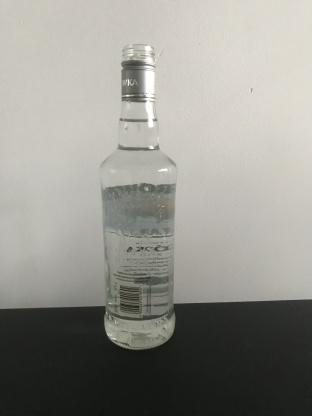nakretka: (119, 41, 158, 104)
